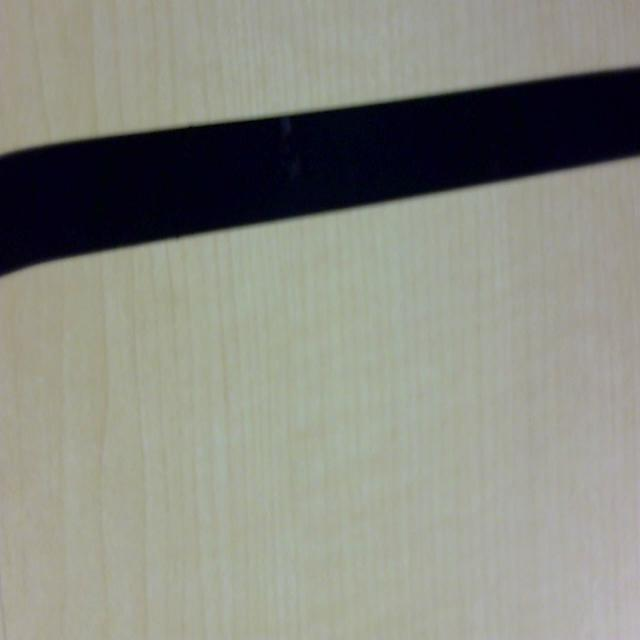tape: (0, 36, 640, 323)
